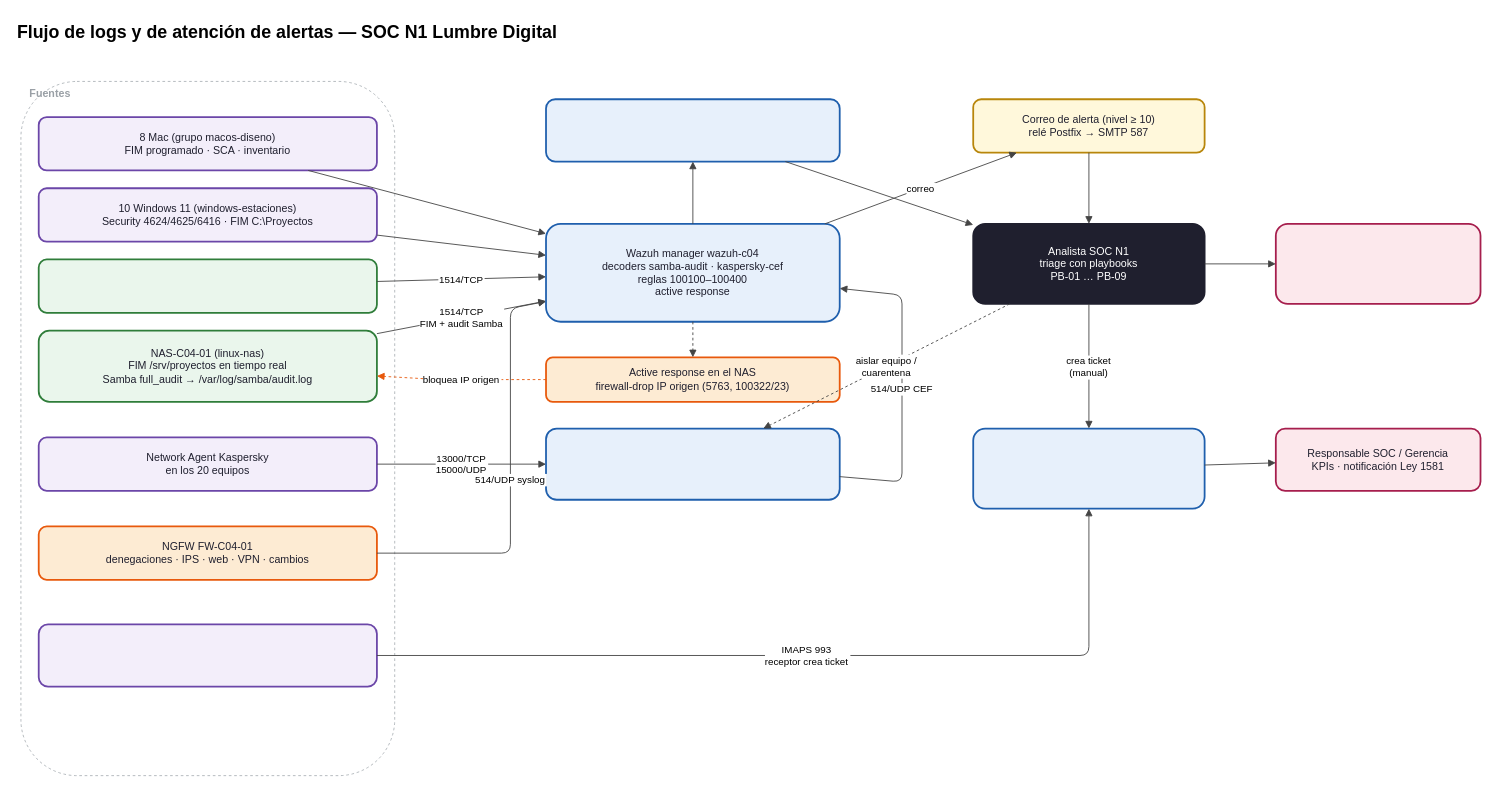
Some shapes in this 1496 by 791 pixel diagram are drawn without their labels. The centre of each missing label's shape, as x and y in pixels:
"Empleado reenvía correo sospechoso reporte-phishing@lumbredigital.example" goes at pixel 207 655.
"GLPI (nube, HTTPS) ticket con plantilla · SLA/OLA KB · inventario" goes at pixel 1088 468.
"Kaspersky Security Center políticas · EDR · control USB/web" goes at pixel 692 463.
"N2 externo investigación · contención mayor · restauración" goes at pixel 1377 263.
"SRV-C04-FS01 (windows-servidores) eventos · FIM D:\Compartido" goes at pixel 207 285.
"Wazuh indexer + dashboard retención 90 días + 12 meses archivo" goes at pixel 692 130.
